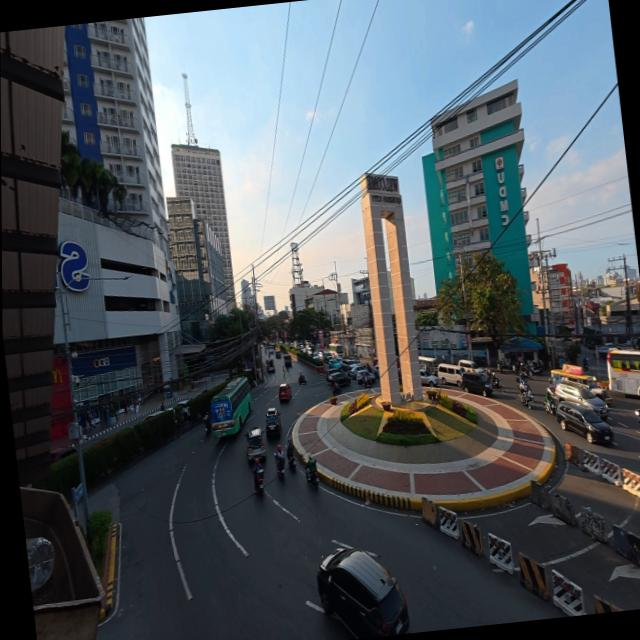bus: (210, 377, 251, 438), (607, 349, 639, 397)
car: (316, 548, 409, 638), (555, 402, 612, 443), (554, 383, 608, 420), (461, 372, 492, 396), (245, 428, 265, 462), (264, 408, 280, 436), (49, 446, 75, 463), (420, 368, 438, 387), (458, 360, 483, 373), (277, 382, 292, 402), (355, 369, 374, 384), (331, 372, 350, 386), (340, 359, 357, 373), (325, 370, 339, 384), (348, 364, 362, 378), (328, 358, 340, 369), (283, 353, 291, 368), (373, 366, 380, 378), (275, 350, 281, 359)
motorcycle: (517, 377, 533, 409), (543, 390, 557, 415), (519, 387, 533, 409), (304, 467, 318, 489), (273, 453, 284, 481), (256, 469, 264, 495), (490, 375, 503, 391), (203, 416, 211, 436), (529, 364, 542, 376), (287, 455, 295, 472), (331, 383, 340, 396), (297, 374, 306, 385), (496, 361, 505, 372), (582, 360, 588, 372), (635, 410, 639, 425)
vans: (437, 364, 461, 387)
